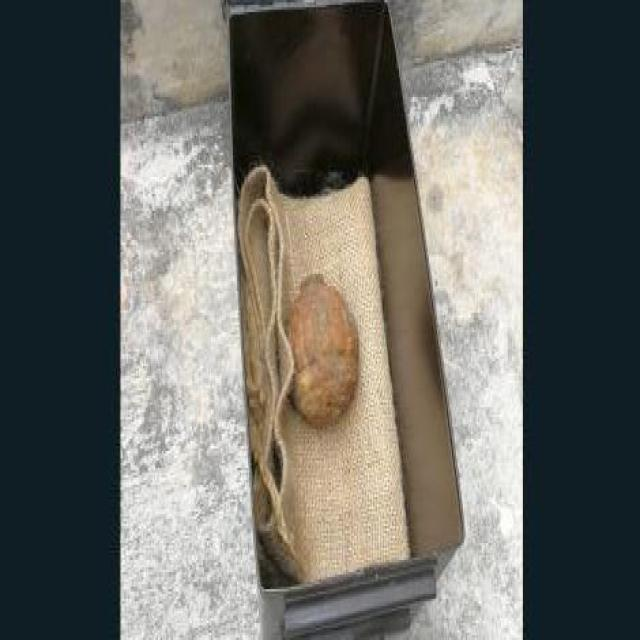grenade: (285, 273, 362, 433)
